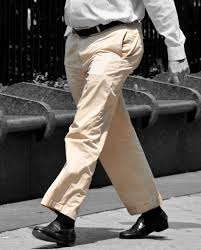F_belt: (55, 15, 148, 38)
